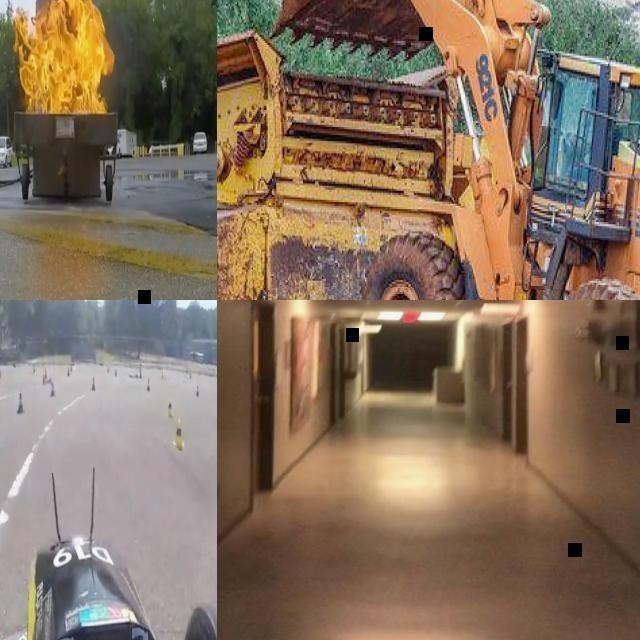Person: (578, 89, 598, 176)
Safety Cone: (171, 414, 185, 452), (16, 387, 24, 422), (167, 398, 173, 417), (91, 373, 97, 391), (49, 382, 55, 396), (45, 375, 52, 383), (146, 376, 150, 390), (67, 366, 70, 375), (43, 372, 45, 384), (33, 363, 35, 374), (197, 383, 199, 394), (0, 368, 2, 378), (140, 368, 142, 378), (115, 367, 117, 375), (71, 364, 73, 371), (107, 365, 109, 371)
machinery: (274, 0, 640, 300), (217, 36, 463, 300)
vehicle: (0, 529, 217, 640), (0, 134, 13, 167), (192, 130, 209, 152), (106, 138, 122, 157)
